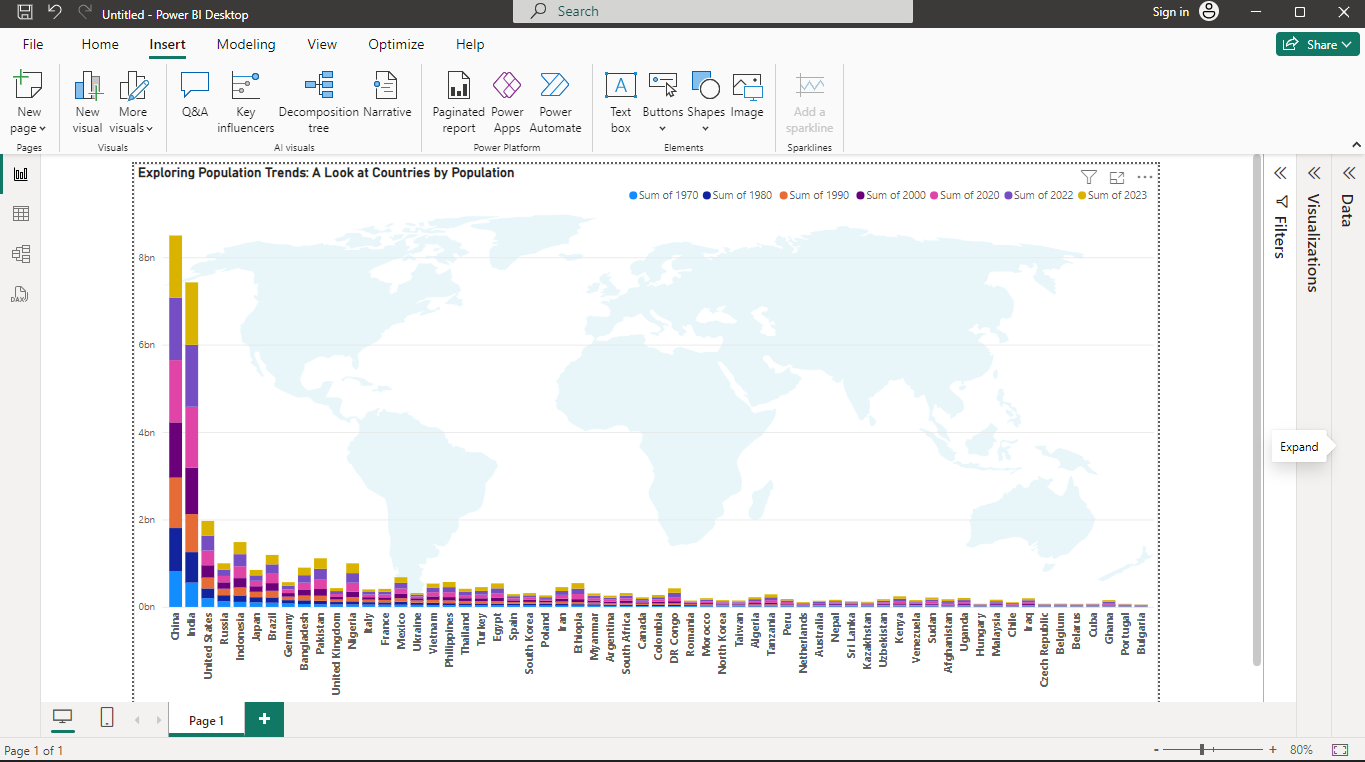

What the dashboard file says about the page in this screenshot:
{"tool":"powerbi","page":{"name":"Page 1","canvas":[1280,720],"ordinal":0},"visuals":[{"type":"columnChart","title":"Exploring Population Trends: A Look at Countries by Population","fields":{"Category":["world_population_data.country"],"Y":["Sum(world_population_data.1970)","Sum(world_population_data.1980 )","Sum(world_population_data.1990 )","Sum(world_population_data.2000)","Sum(world_population_data.2020)","Sum(world_population_data.2022)","Sum(world_population_data.2023 )"]},"box":[0,0,1280,720],"z":0}]}

Visuals, with their boxes on the page's 1280x720 design canvas (x1, y1, x2, y2). These are canvas units, not pixel positions in the 1365x762 screenshot, which may show the page scaled, cropped or inside an application window:
"Exploring Population Trends: A Look at Countries by Population" columnChart: bbox=(0, 0, 1280, 720)
